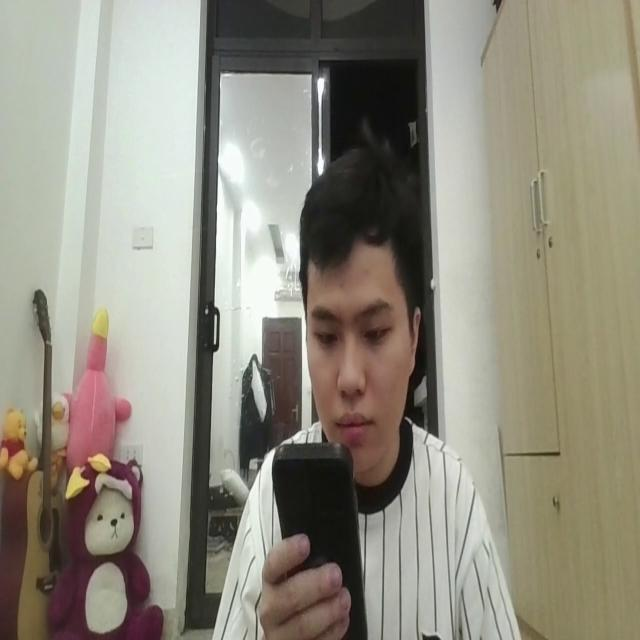phone: (272, 434, 370, 640)
student: (218, 139, 521, 640)
